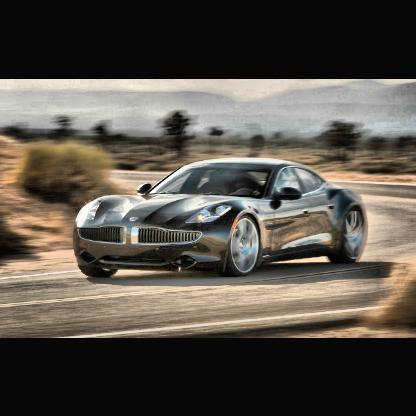Fisker Karma Sedan 2012: (74, 157, 368, 281)
